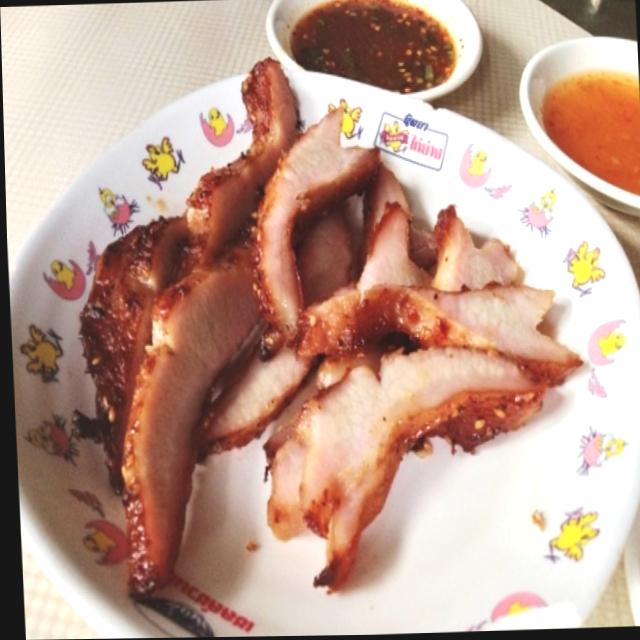猪肉菜式: (19, 30, 582, 630)
